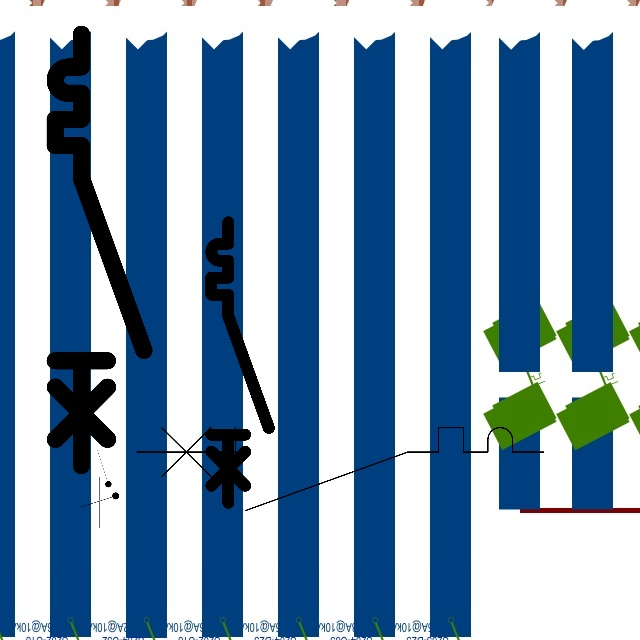interruptor_termomagnetico: (44, 23, 155, 477), (126, 417, 553, 521), (204, 215, 276, 510)
